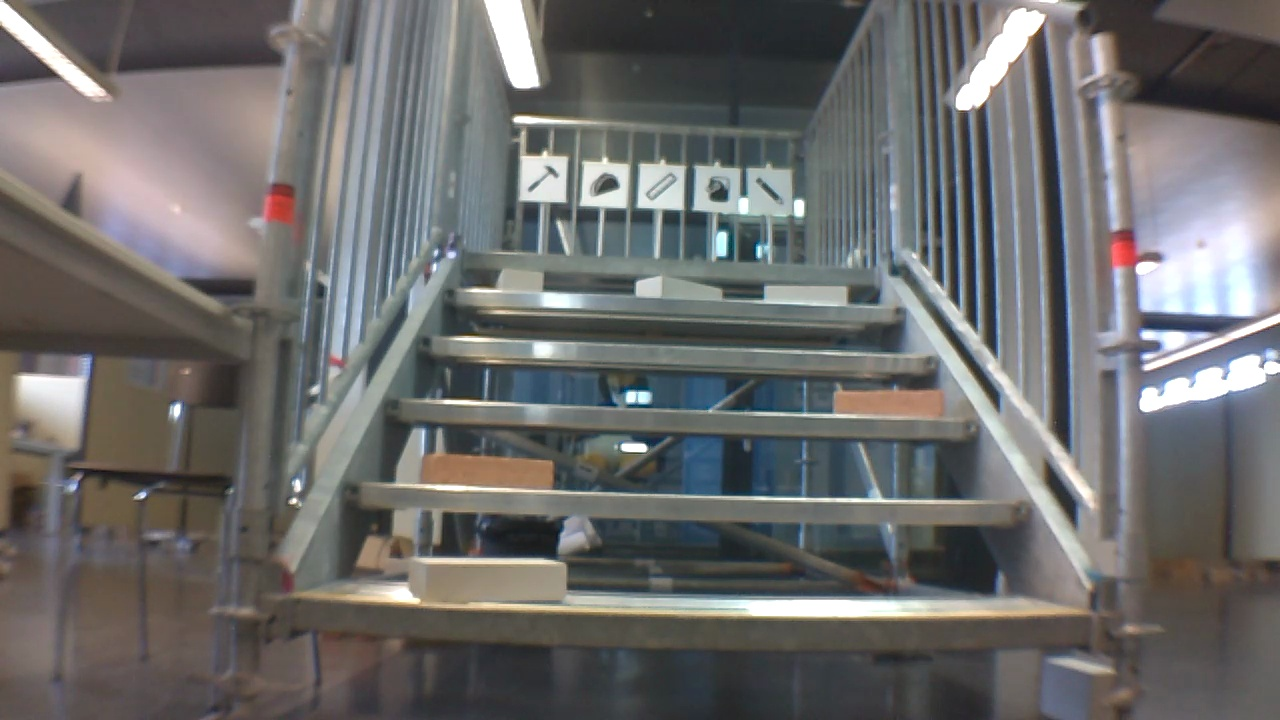brick: (410, 558, 567, 604), (421, 455, 551, 490), (833, 391, 944, 417), (636, 276, 722, 299), (766, 285, 847, 302), (498, 269, 541, 289)
bucket: (703, 172, 735, 208)
edge: (296, 596, 1087, 646), (343, 484, 1032, 524), (386, 399, 979, 438), (418, 336, 937, 372), (442, 289, 904, 322), (461, 251, 876, 284)
hammer: (523, 159, 562, 196)
pencil: (755, 174, 790, 206)
ruler: (645, 169, 679, 203)
stairs: (234, 4, 1144, 715)
steps: (284, 245, 1096, 661)
taco: (587, 167, 622, 201)
